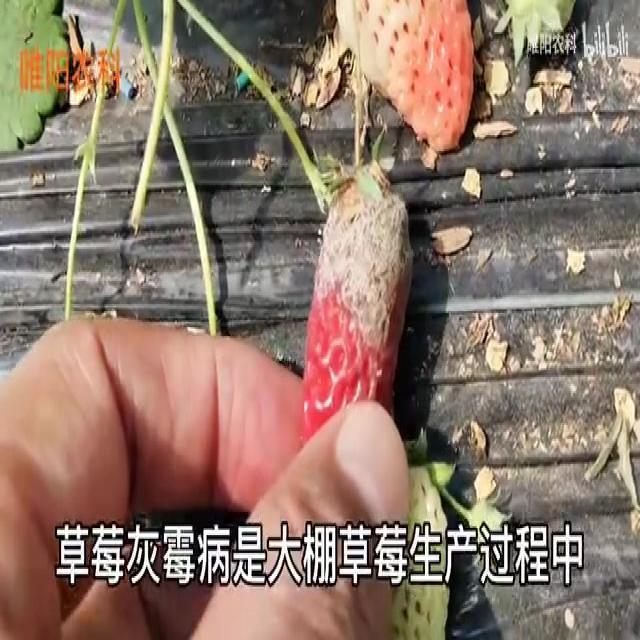Fruta sana: (335, 0, 480, 149)
Moho gris: (301, 167, 412, 487)
